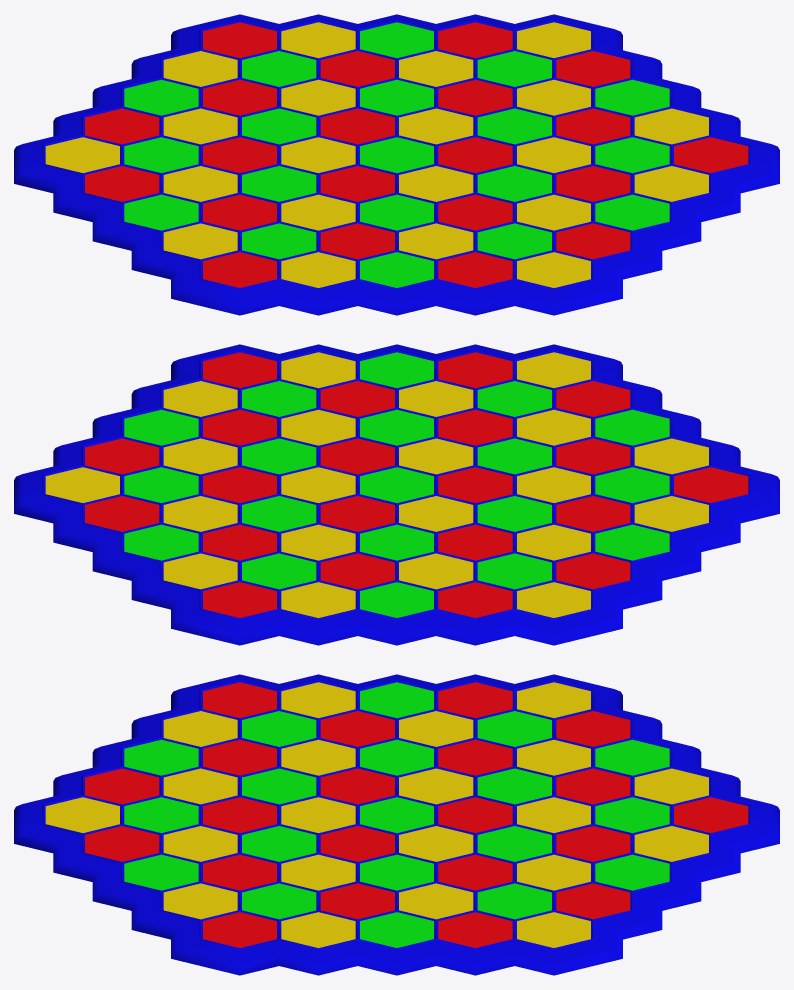
The model's file is BoardLP.fbx.
3 views of the same model, one above another, from view 1: azimuth 30°, elevation 25°; view 2: azimuth 150°, elevation 25°; view 3: azimuth 270°, elevation 25° (orthographic).
Visible parts, largest first — view 1: board; view 2: board; view 3: board.
Boxes of the visible parts, left/top/right/bottom form: board: left=14, top=14, right=779, bottom=315; board: left=14, top=344, right=779, bottom=645; board: left=14, top=674, right=779, bottom=975.
Bounding box in the file's own units: 16.41 × 0.3342 × 17.87.
